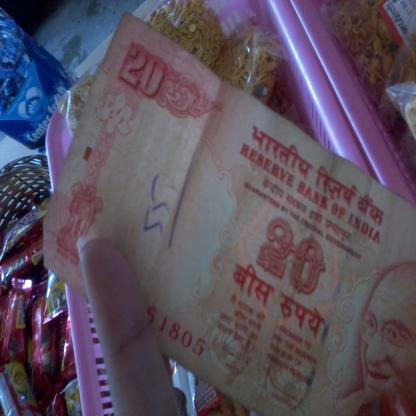Old20Front: (43, 12, 416, 416)
